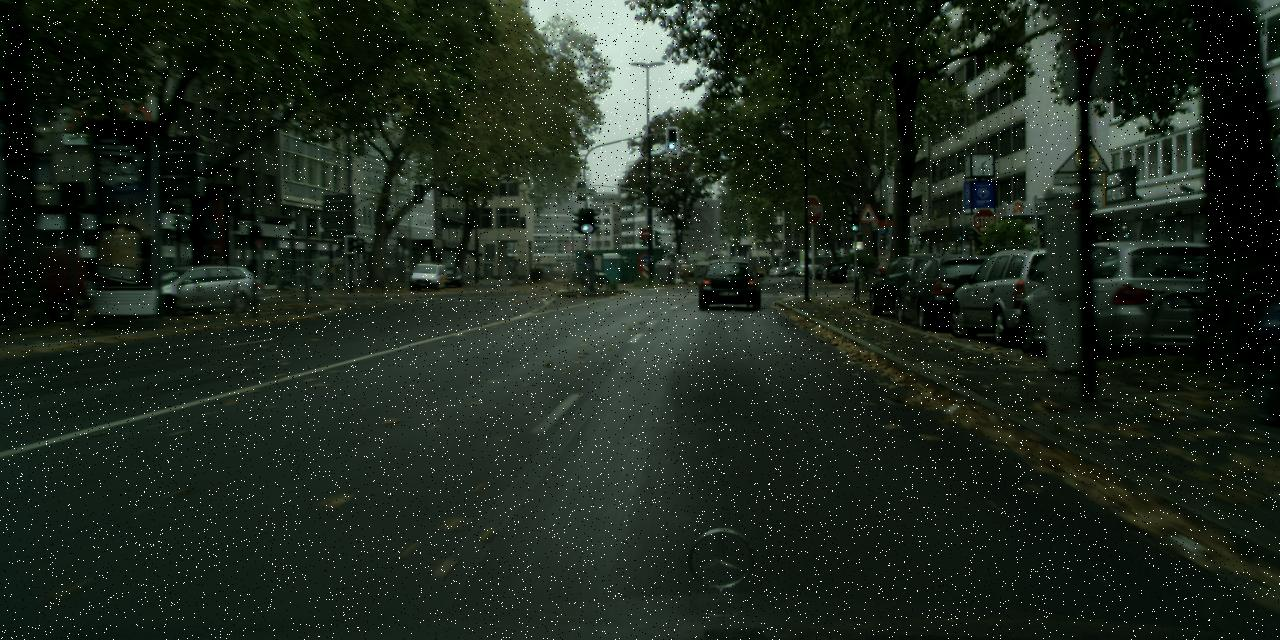ped: (579, 246, 594, 286)
